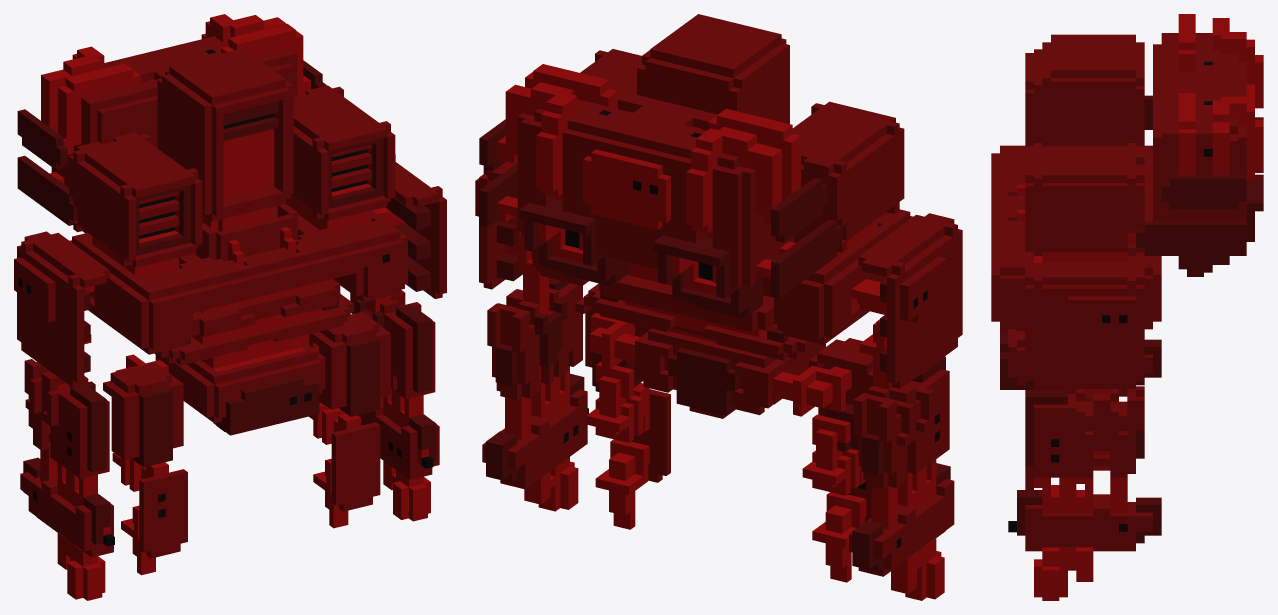
Rendered from lvl6.obj.
3 renders of one model, left to right at view 1: azimuth 30°, elevation 25°; view 2: azimuth 150°, elevation 25°; view 3: azimuth 270°, elevation 25°, orthographic. The views are drawn at different scales.
Bounding box in the file's own units: 5.2 × 6 × 3.2.
Materials: 1 (1 with a texture image).
